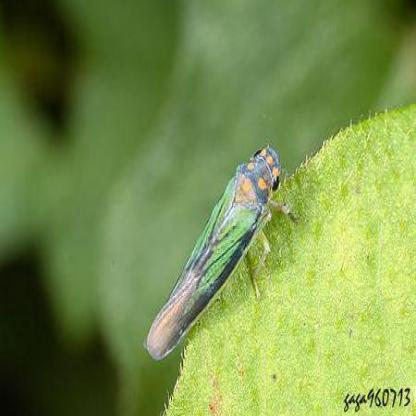green-leafhopper: (141, 144, 298, 362)
